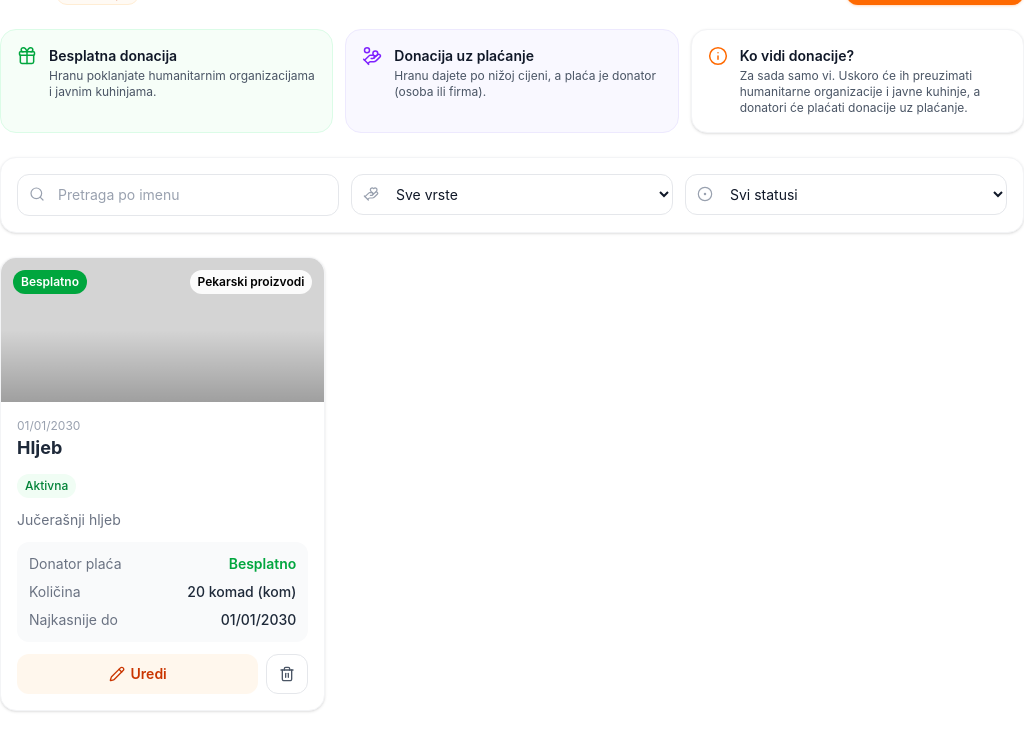
it: DonateFoodPage › offers only deleting for a donation that did not come from a product
(page scrolled)
Click the button named "Obriši" at coordinates (287, 674), box x1=266 y1=654 x2=308 y2=694
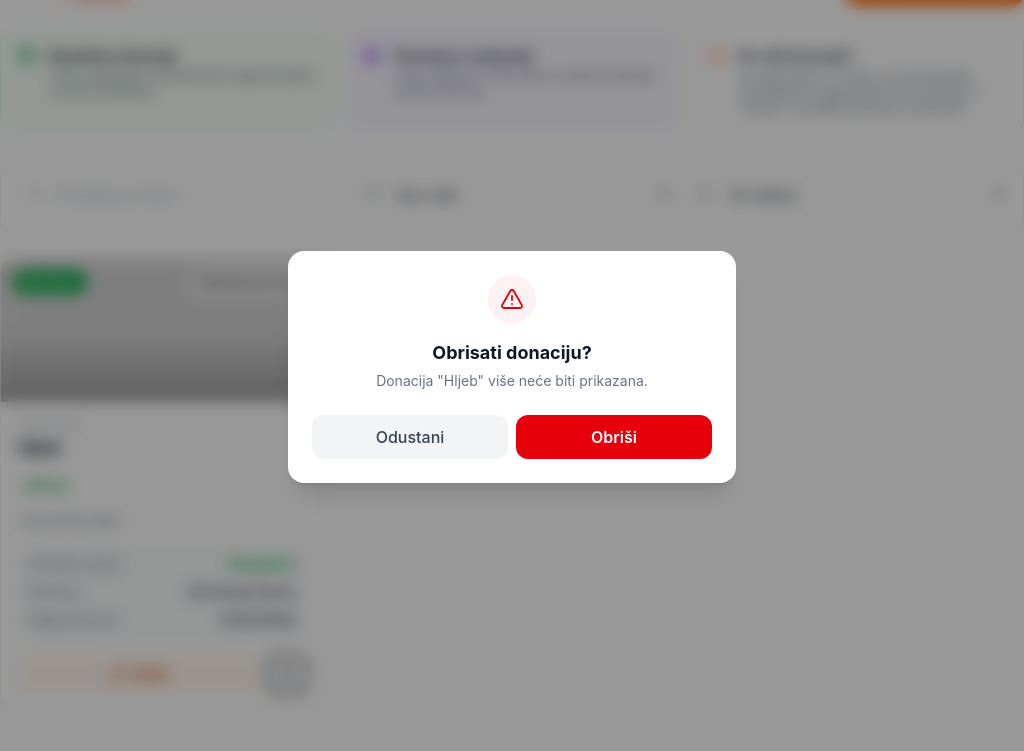
Check: the heading "Obrisati donaciju?" is shown, box x1=432 y1=339 x2=592 y2=367
